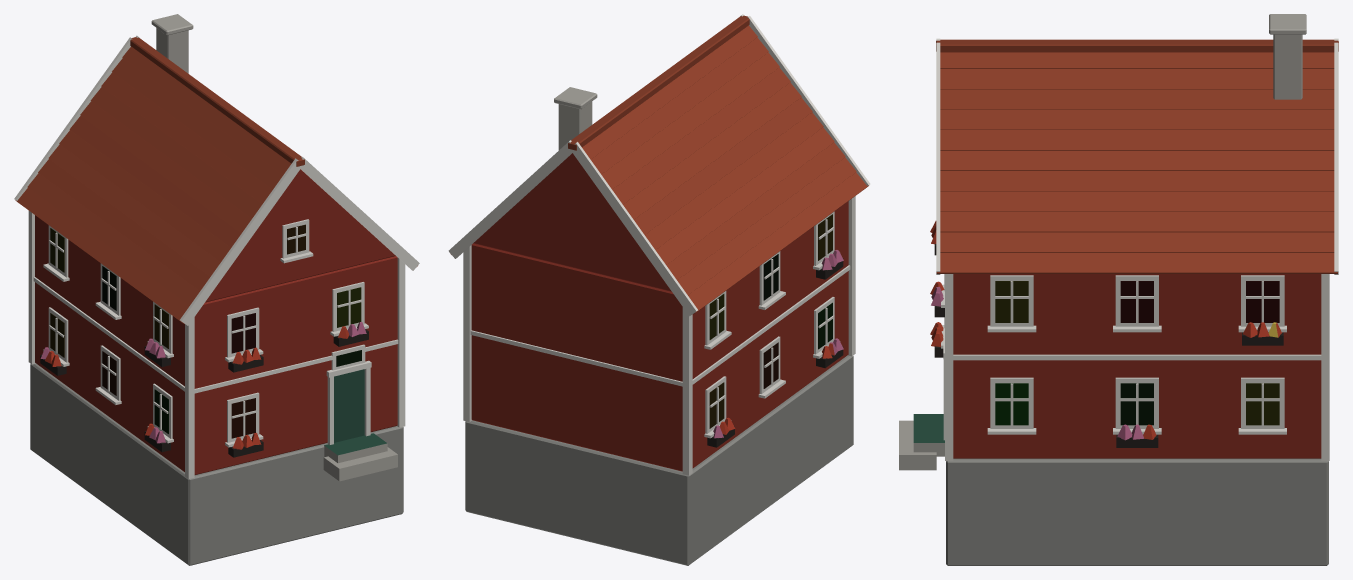
File: house_a_falu_gable.glb
3 renders of one model, left to right at view 1: azimuth 30°, elevation 25°; view 2: azimuth 150°, elevation 25°; view 3: azimuth 270°, elevation 25°, orthographic. The views are drawn at different scales.
Parts seen in each view (by area): view 1: house_a_falu_gable_walls, house_a_falu_gable_roof, house_a_falu_gable_plinth, house_a_falu_gable_trim, house_a_falu_gable_glass, house_a_falu_gable_door, house_a_falu_gable_ridge, house_a_falu_gable_fflowers, house_a_falu_gable_fbox, house_a_falu_gable_chimney; view 2: house_a_falu_gable_walls, house_a_falu_gable_roof, house_a_falu_gable_plinth, house_a_falu_gable_trim, house_a_falu_gable_glass, house_a_falu_gable_ridge, house_a_falu_gable_chimney, house_a_falu_gable_fflowers, house_a_falu_gable_fbox; view 3: house_a_falu_gable_roof, house_a_falu_gable_walls, house_a_falu_gable_plinth, house_a_falu_gable_trim, house_a_falu_gable_glass, house_a_falu_gable_ridge, house_a_falu_gable_chimney, house_a_falu_gable_door, house_a_falu_gable_fflowers, house_a_falu_gable_fbox.
Part boxes in pixels (x1,y1,x2,y2): house_a_falu_gable_walls: (35,169,397,474); house_a_falu_gable_roof: (15,46,417,323); house_a_falu_gable_plinth: (30,363,403,565); house_a_falu_gable_trim: (14,35,419,478); house_a_falu_gable_glass: (50,224,361,438); house_a_falu_gable_door: (323,369,397,481); house_a_falu_gable_ridge: (130,37,304,166); house_a_falu_gable_fflowers: (40,322,366,449); house_a_falu_gable_fbox: (40,329,368,457); house_a_falu_gable_chimney: (151,14,193,73); house_a_falu_gable_walls: (471,153,848,471); house_a_falu_gable_roof: (450,25,868,314); house_a_falu_gable_plinth: (465,355,853,565); house_a_falu_gable_trim: (448,14,870,475); house_a_falu_gable_glass: (709,214,832,428); house_a_falu_gable_ridge: (568,15,749,150); house_a_falu_gable_chimney: (554,87,597,150); house_a_falu_gable_fflowers: (713,250,843,438); house_a_falu_gable_fbox: (707,258,843,447); house_a_falu_gable_roof: (936,52,1337,273); house_a_falu_gable_walls: (953,274,1321,458); house_a_falu_gable_plinth: (946,458,1328,565); house_a_falu_gable_trim: (936,38,1338,460); house_a_falu_gable_glass: (995,281,1279,425); house_a_falu_gable_ridge: (936,39,1338,52); house_a_falu_gable_chimney: (1269,14,1306,99); house_a_falu_gable_door: (899,414,944,470); house_a_falu_gable_fflowers: (930,221,1282,440); house_a_falu_gable_fbox: (934,244,1283,447).
Size of the model in its own units: 7.92 by 13 by 10.52.
